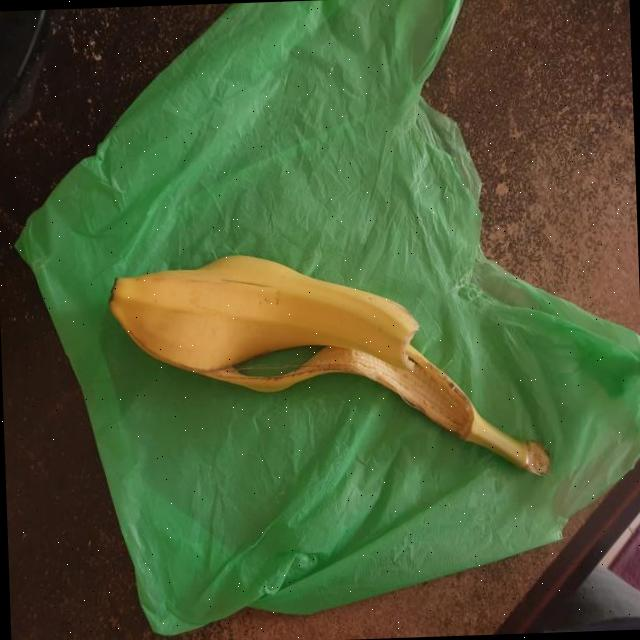banana-peel: (105, 241, 550, 491)
